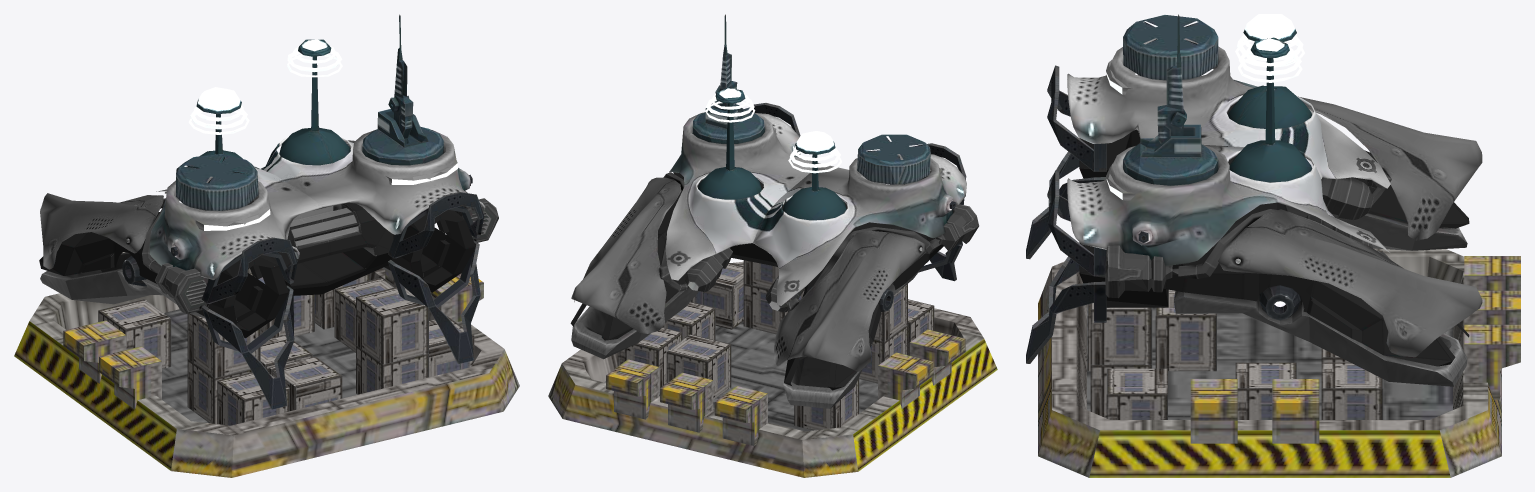
The model's file is headquater-1.glb.
3 views of the same model, side by side, from view 1: azimuth 30°, elevation 25°; view 2: azimuth 150°, elevation 25°; view 3: azimuth 270°, elevation 25° (orthographic). The views are drawn at different scales.
Visible parts, largest first — view 1: Cube.020; view 2: Cube.020; view 3: Cube.020.
Boxes of the visible parts, bbox=[...] form: Cube.020: bbox=[14, 14, 519, 477]; Cube.020: bbox=[548, 14, 997, 477]; Cube.020: bbox=[1026, 14, 1520, 477].
Size of the model in its own units: 47.34 by 45.07 by 48.33.
1 material, 1 textured.
